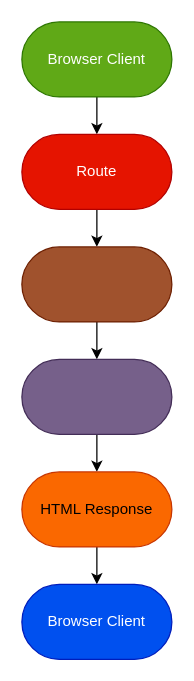
This 194x681 diagram has some shape labels left out. Here are the shapes that lost their labels. From the top down, the centre of each, then its label:
(96,284): CompanyController
(96,396): Blade View
